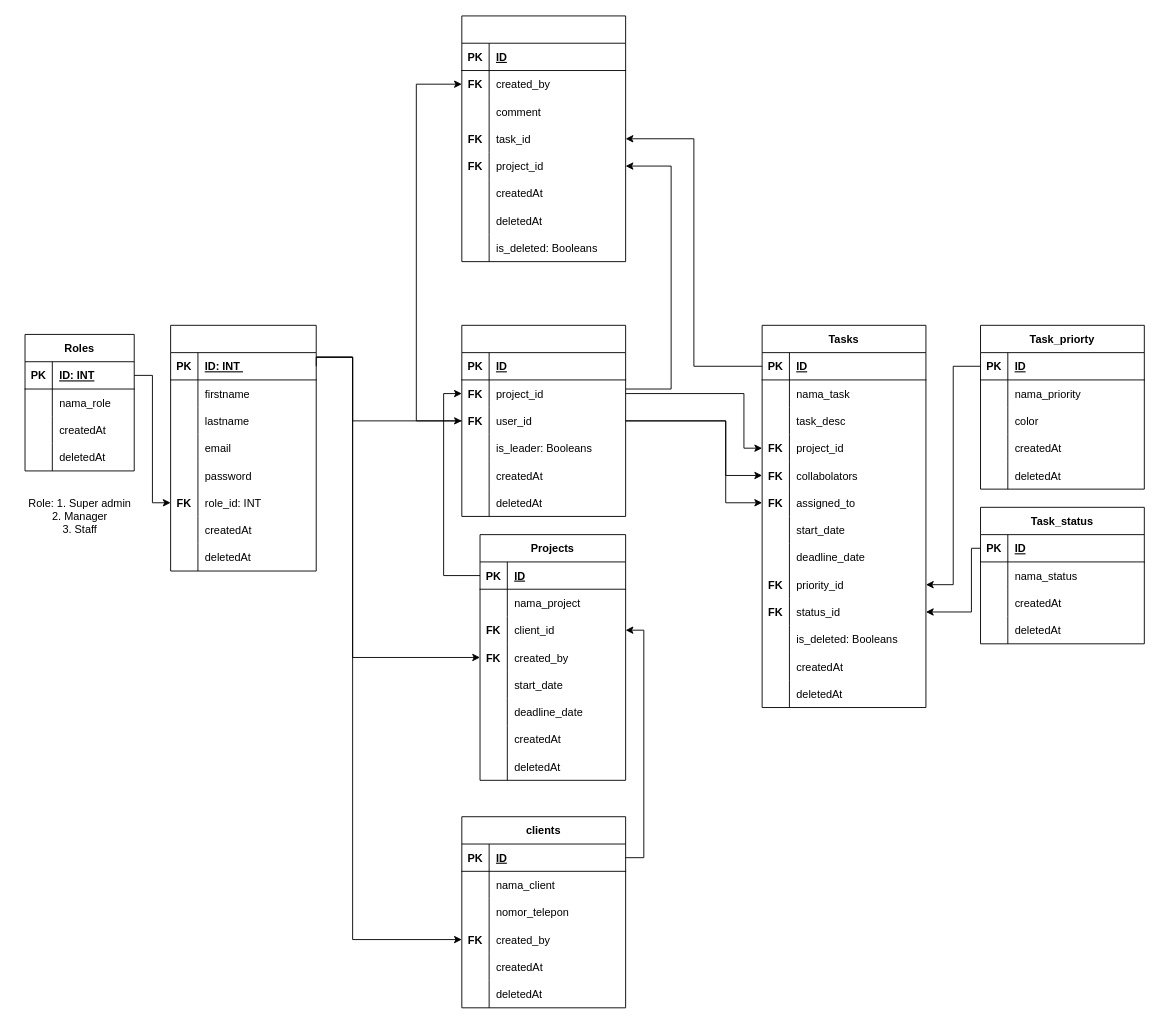
Some shapes in this 1160 by 1024 pixel diagram are drawn without their labels. Here are the shapes that lost their labels. From the top down, the box of each, then its label:
(461, 15, 626, 262): Project_comments
(461, 324, 626, 516): Team_member
(170, 324, 316, 571): User
